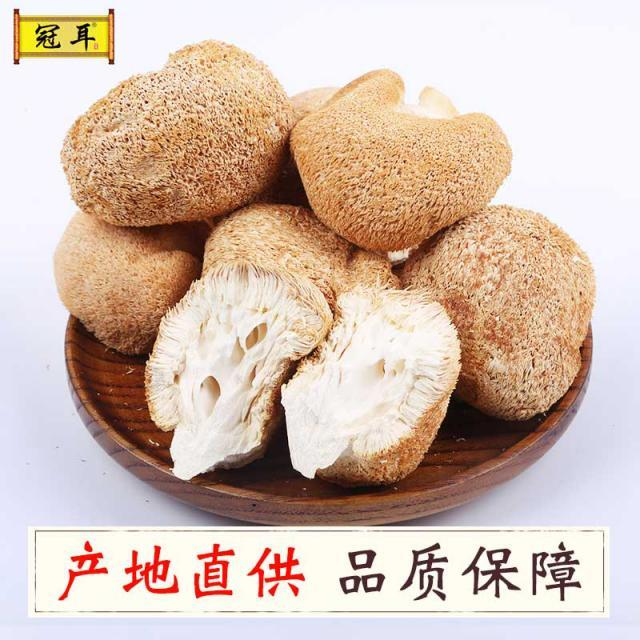Hericium erinaceus: (62, 39, 282, 223), (401, 211, 595, 415), (142, 266, 325, 481), (292, 74, 512, 251), (283, 284, 464, 486), (52, 204, 194, 349), (204, 198, 402, 288)
